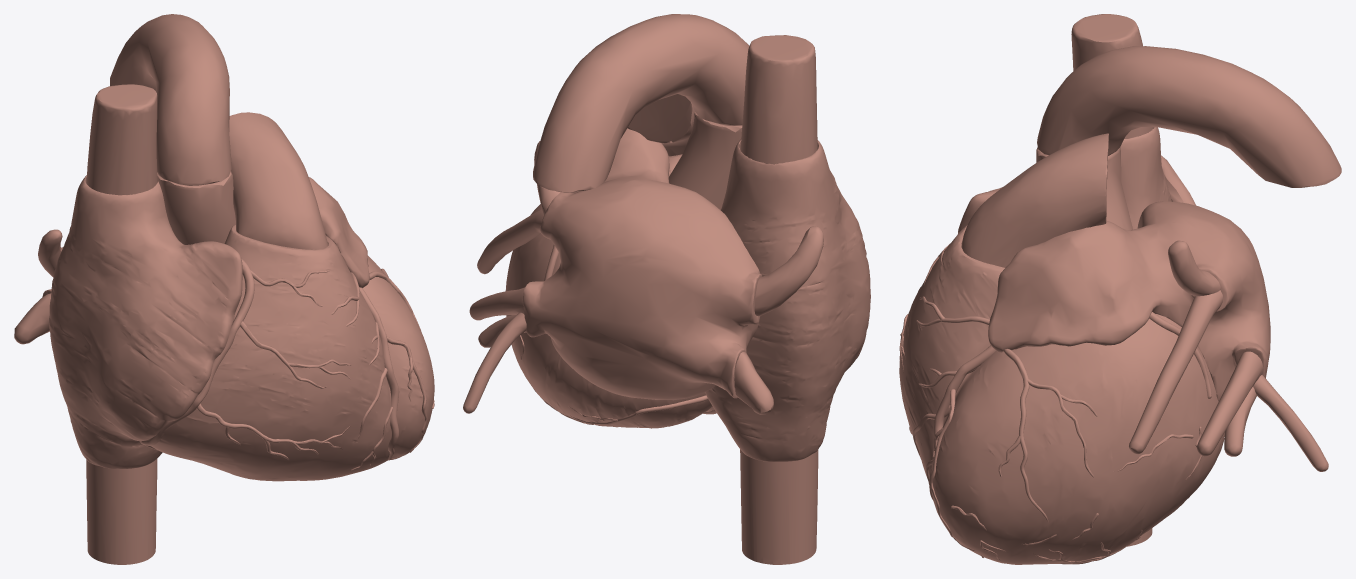
Rendered from heart-4.3.glb.
3 renders of one model, left to right at view 1: azimuth 30°, elevation 25°; view 2: azimuth 150°, elevation 25°; view 3: azimuth 270°, elevation 25°, orthographic. The views are drawn at different scales.
Visible parts, largest first — view 1: ventricular-wall, right-atrium, aortic-arch, pulmonary-trunk, superior-vena-cava, inferior-vena-cava-upper-source, ascending-aorta, right-coronary, left-coronary, left-atrium, right-inferior-pulmonary-vein, right-superior-pulmonary-vein; view 2: left-atrium, right-atrium, aortic-arch, ventricular-wall, superior-vena-cava, inferior-vena-cava-upper-source, ascending-aorta, left-inferior-pulmonary-vein, right-superior-pulmonary-vein, pulmonary-trunk, left-superior-pulmonary-vein, right-inferior-pulmonary-vein (+1 smaller); view 3: ventricular-wall, left-atrium, aortic-arch, pulmonary-trunk, left-coronary, left-superior-pulmonary-vein, left-inferior-pulmonary-vein, right-atrium, superior-vena-cava, ascending-aorta, right-superior-pulmonary-vein, right-coronary.
Part boxes in pixels (<box>): ventricular-wall: <box>148,225,434,481</box>; right-atrium: <box>49,175,242,468</box>; aortic-arch: <box>110,14,231,185</box>; pulmonary-trunk: <box>229,112,328,249</box>; superior-vena-cava: <box>86,84,157,195</box>; inferior-vena-cava-upper-source: <box>86,459,157,564</box>; ascending-aorta: <box>157,171,235,244</box>; right-coronary: <box>140,259,400,460</box>; left-coronary: <box>331,268,434,470</box>; left-atrium: <box>42,177,369,296</box>; right-inferior-pulmonary-vein: <box>14,293,51,344</box>; right-superior-pulmonary-vein: <box>38,229,62,277</box>; left-atrium: <box>522,128,762,400</box>; right-atrium: <box>705,139,870,461</box>; aortic-arch: <box>533,14,749,192</box>; ventricular-wall: <box>505,154,714,428</box>; superior-vena-cava: <box>740,35,817,164</box>; inferior-vena-cava-upper-source: <box>740,449,818,564</box>; ascending-aorta: <box>668,112,742,210</box>; left-inferior-pulmonary-vein: <box>463,287,526,413</box>; right-superior-pulmonary-vein: <box>754,226,823,316</box>; pulmonary-trunk: <box>627,94,694,156</box>; left-superior-pulmonary-vein: <box>477,141,560,274</box>; right-inferior-pulmonary-vein: <box>734,352,773,414</box>; ventricular-wall: <box>899,225,1224,564</box>; left-atrium: <box>988,201,1270,401</box>; aortic-arch: <box>1037,46,1341,187</box>; pulmonary-trunk: <box>961,133,1108,267</box>; left-coronary: <box>912,296,1211,560</box>; left-superior-pulmonary-vein: <box>1129,240,1222,454</box>; left-inferior-pulmonary-vein: <box>1197,351,1328,471</box>; right-atrium: <box>958,127,1171,233</box>; superior-vena-cava: <box>1071,14,1153,138</box>; ascending-aorta: <box>1036,147,1132,230</box>; right-superior-pulmonary-vein: <box>1161,155,1195,205</box>; right-coronary: <box>899,244,1142,564</box>.
Size of the model in its own units: 2.38 by 3.34 by 2.54.
